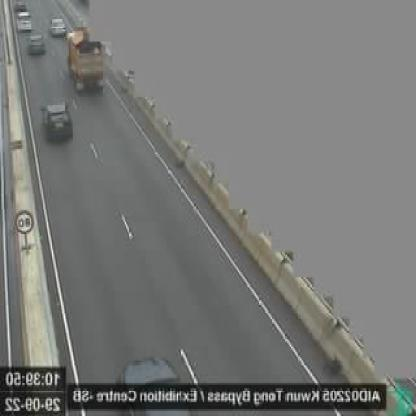Car: (112, 338, 203, 414), (39, 97, 81, 147), (46, 9, 70, 36), (13, 9, 36, 36), (29, 28, 50, 57), (12, 2, 30, 14)
Truck: (63, 26, 110, 95)
